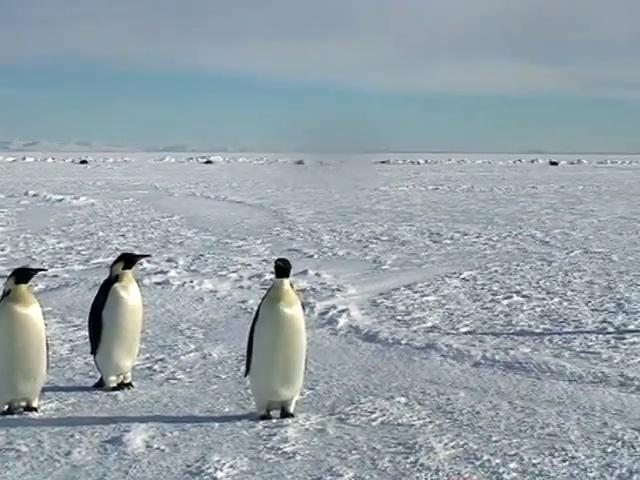animal: (246, 259, 307, 419)
